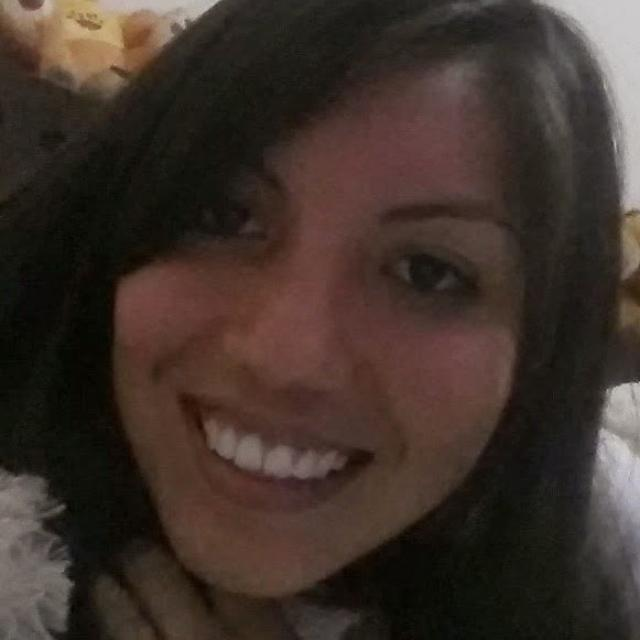Normal: (113, 63, 526, 600)
